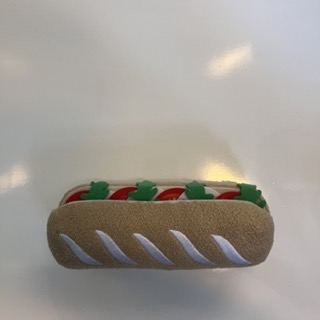sandwich: (46, 180, 274, 268)
